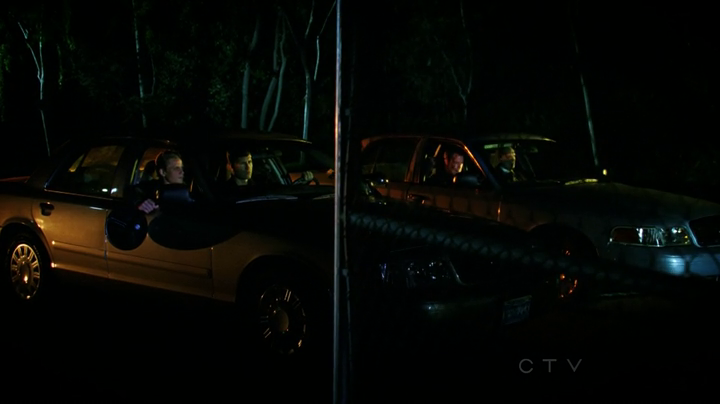car: (13, 127, 555, 348)
